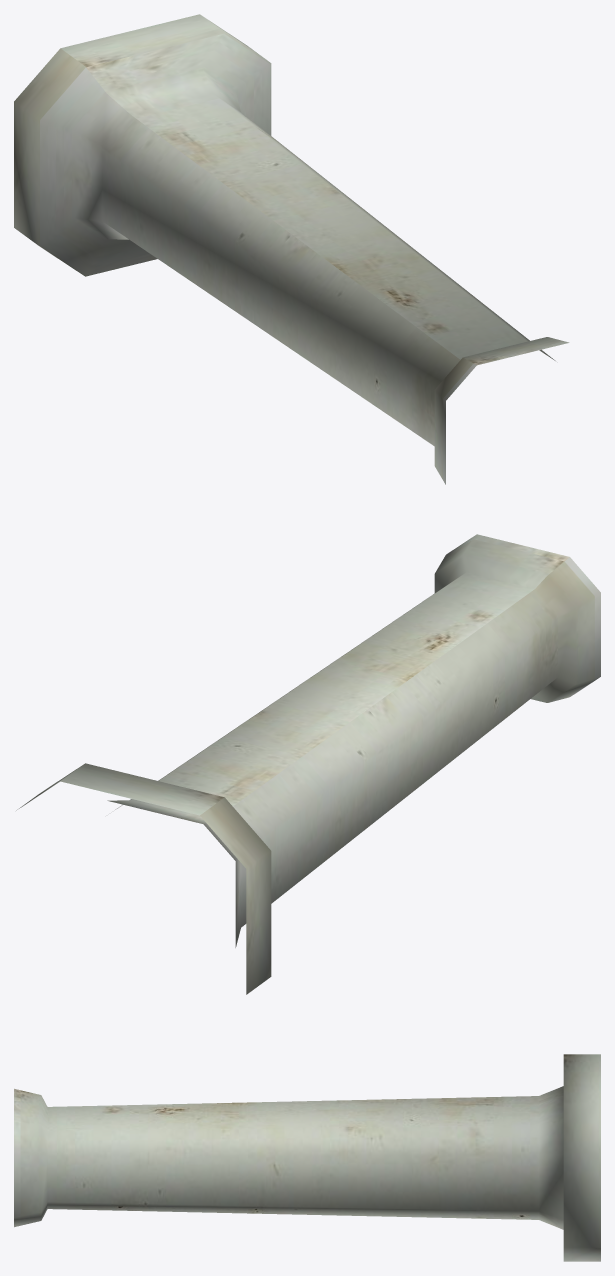
The model's file is furniture_french_sinkpedestal.glb.
The picture shows the model from 3 angles, top to bottom: view 1: azimuth 30°, elevation 25°; view 2: azimuth 150°, elevation 25°; view 3: azimuth 270°, elevation 25°; orthographic projection. The views are drawn at different scales.
Size of the model in its own units: 10.07 by 8.71 by 29.54.
1 material, 1 textured.
